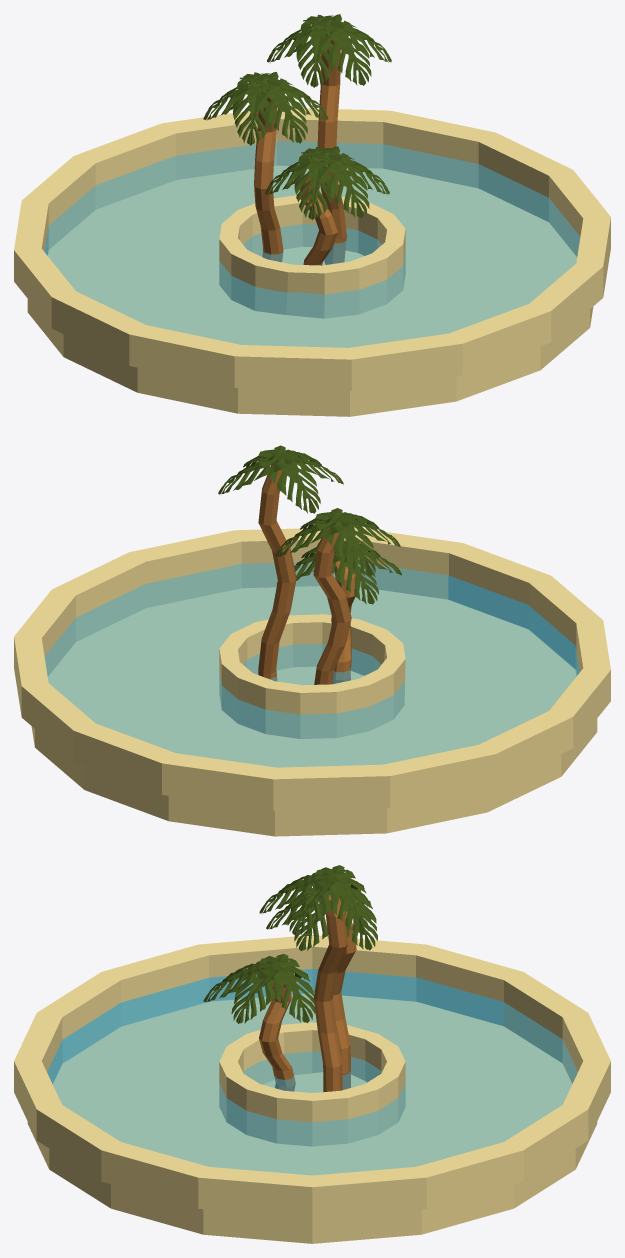
Rendered from Fontaine.fbx.
3 views of the same model, one above another, from view 1: azimuth 30°, elevation 25°; view 2: azimuth 150°, elevation 25°; view 3: azimuth 270°, elevation 25° (orthographic).
Visible parts, largest first — view 1: Fontaine; view 2: Fontaine; view 3: Fontaine.
Boxes of the visible parts, x1=… form: Fontaine: x1=14, y1=14, x2=610, y2=416; Fontaine: x1=14, y1=445, x2=610, y2=836; Fontaine: x1=14, y1=865, x2=610, y2=1243.
Size of the model in its own units: 992 by 992 by 482.
